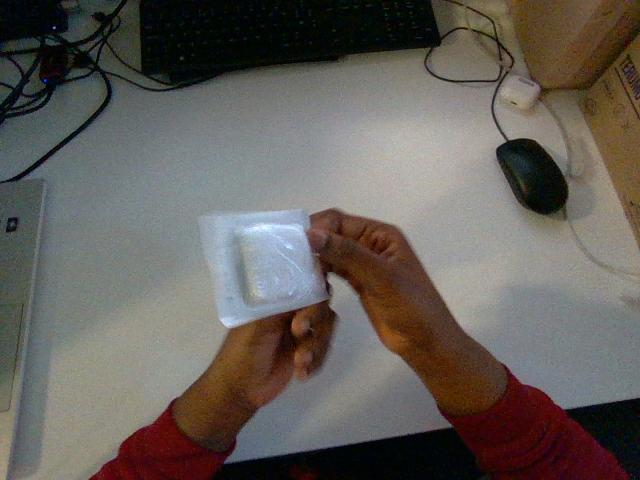gauze: (199, 210, 327, 327)
